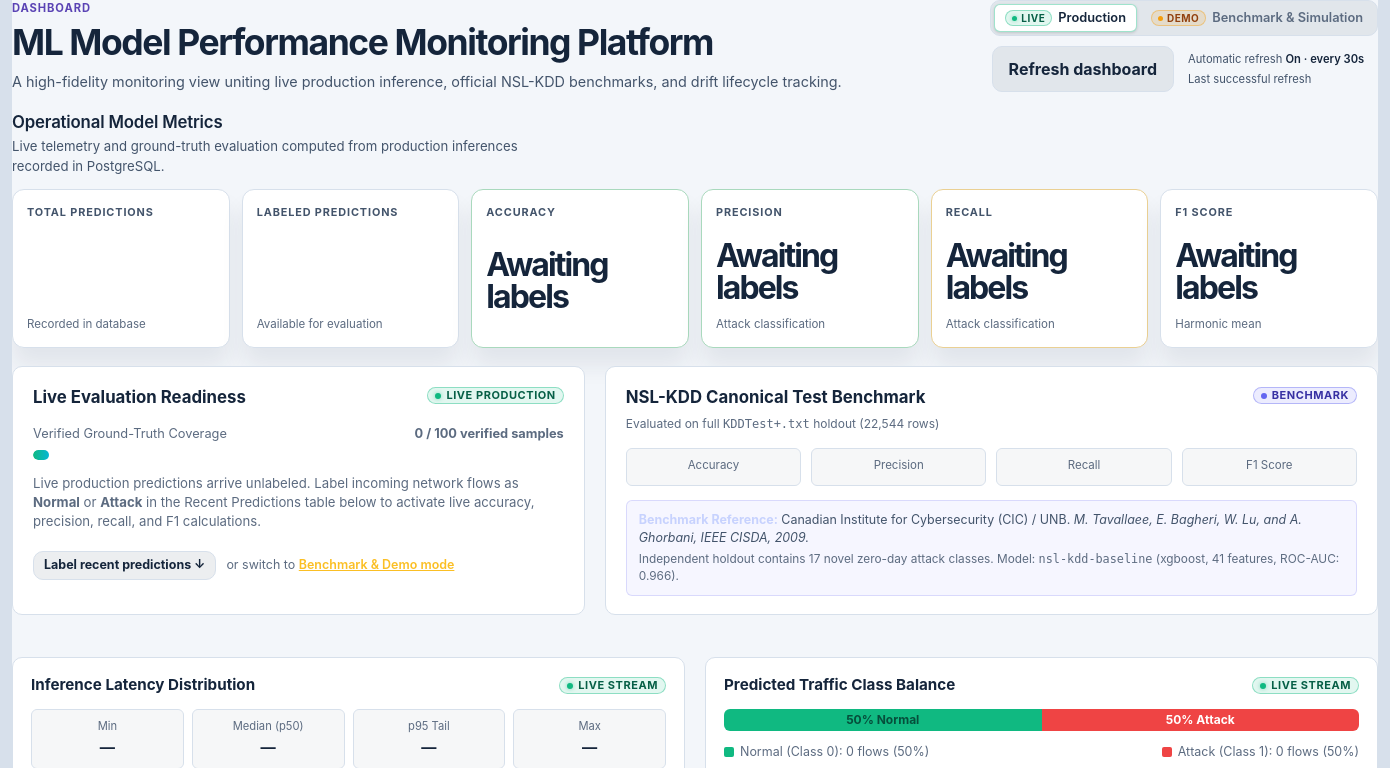
Dashboard › renders clean metric section headings and separates demo telemetry from live inference
Expected: the heading "Operational Model Metrics" is shown, x1=12 y1=112 x2=222 y2=132
Expected: the text "Live telemetry and ground-truth evaluation" is shown, x1=12 y1=138 x2=518 y2=174
Note: Switch to Demo mode
What coordinates should you click on to do the following:
click the button "Demo Benchmark & Simulation"
I would click on:
 (1257, 18)
Its box is x1=1140 y1=4 x2=1374 y2=32.
(page scrolled)
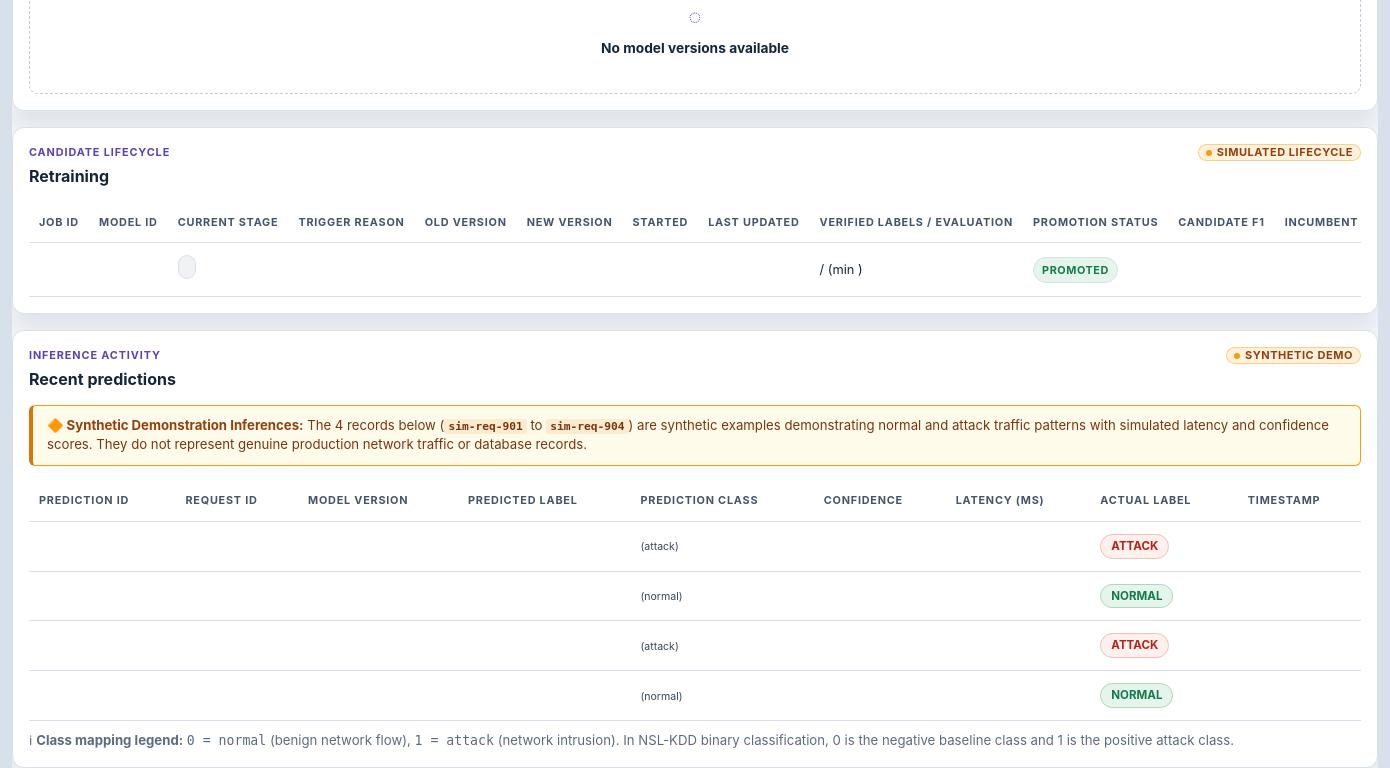
Now the text "🔶 Synthetic Demonstration Inferences:" is shown, box x1=47 y1=417 x2=304 y2=433
